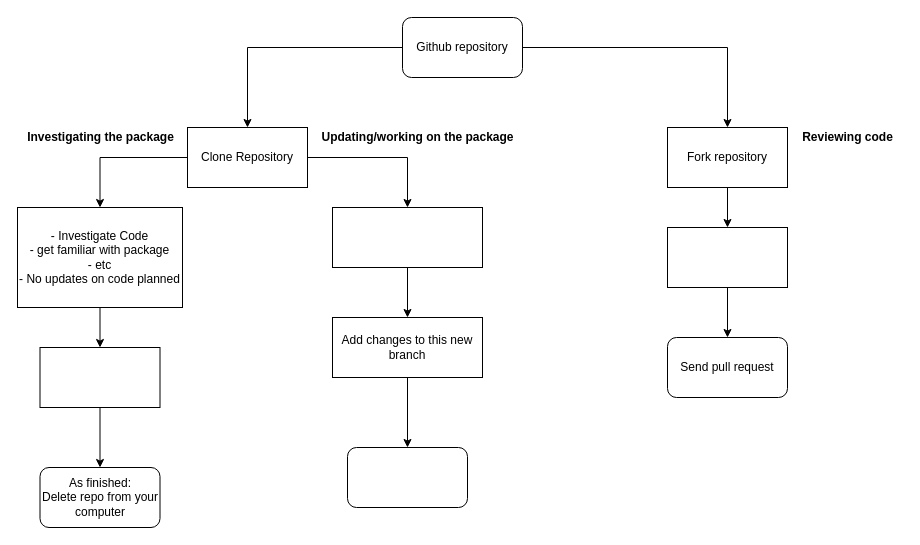
Some shapes in this 920 by 545 pixel diagram are drawn without their labels. The shapes that lost their labels are listed below. From the top down, each one's centre as x and y in pixels, then its label:
At pixel 407 237: "Create new Branch".
At pixel 727 257: "review code and add changes".
At pixel 99 377: "Find any errors, or proposals for improvement?: Create Issue!".
At pixel 407 477: "Once finished, create merge request to the master branch".
